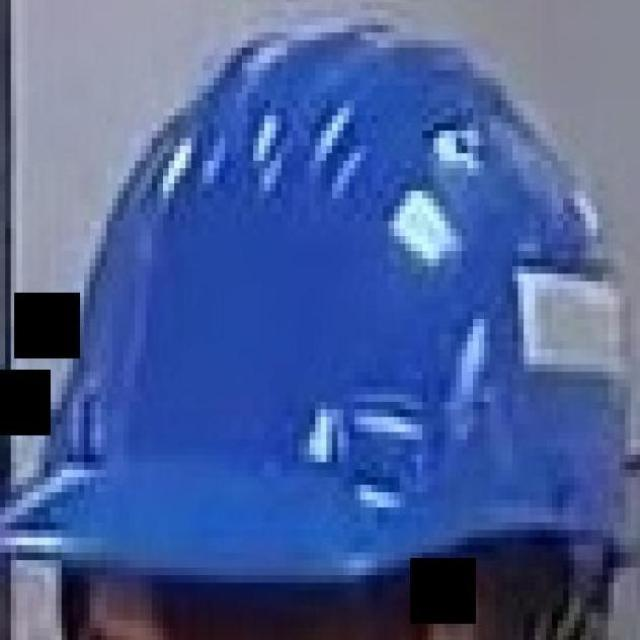blue helmet: (1, 10, 640, 588)
